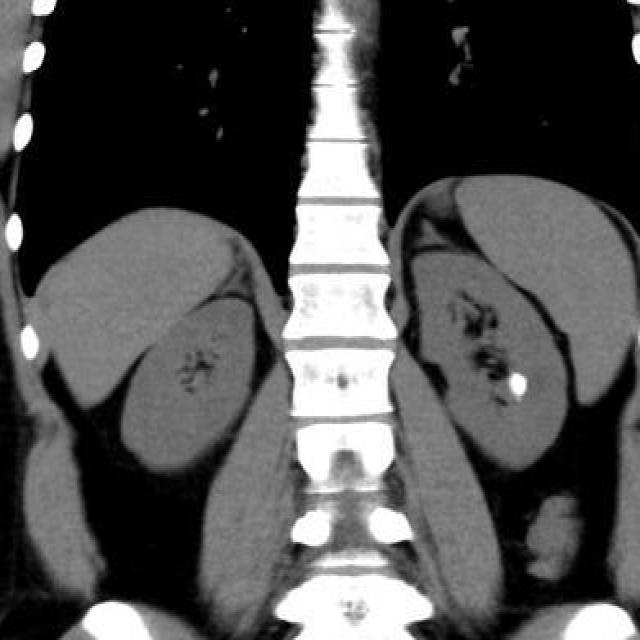Tas_Var: (503, 371, 535, 401)
